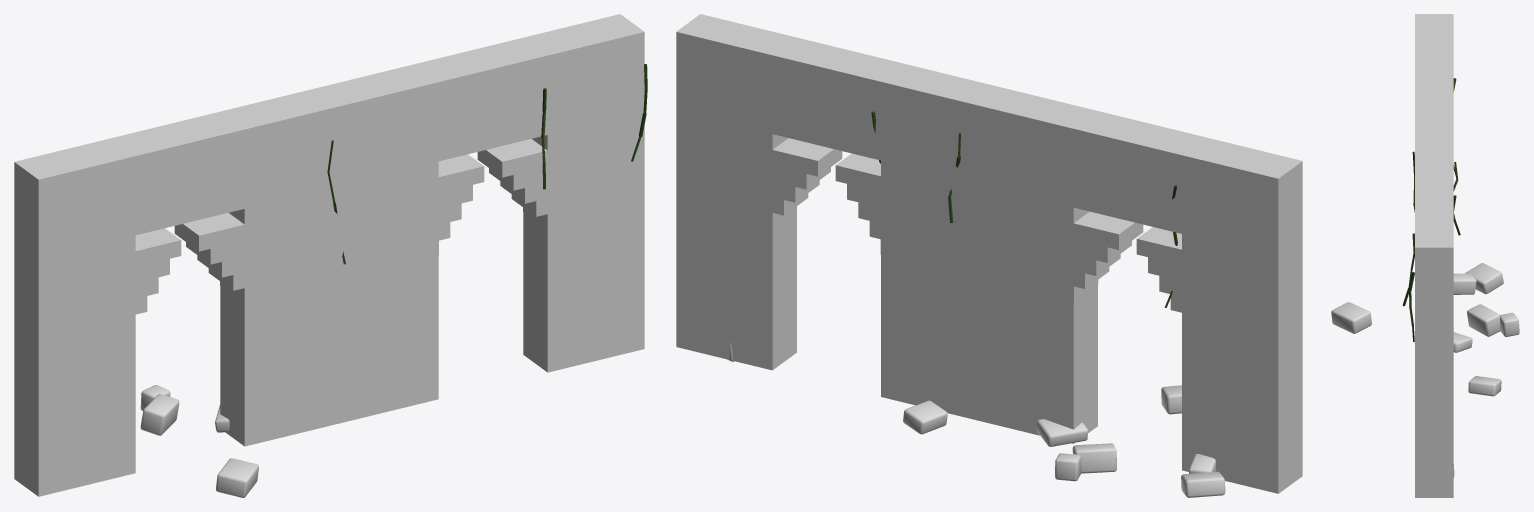
The model's file is ruin_gate.glb.
3 views of the same model, side by side, from view 1: azimuth 30°, elevation 25°; view 2: azimuth 150°, elevation 25°; view 3: azimuth 270°, elevation 25° (orthographic). The views are drawn at different scales.
Visible parts, largest first — view 1: ruin_gate_T_mossy_stone, ruin_gate_M_Vine; view 2: ruin_gate_T_mossy_stone; view 3: ruin_gate_T_mossy_stone, ruin_gate_M_Vine.
Part boxes in pixels (bbox=[...]): ruin_gate_T_mossy_stone: bbox=[14, 14, 644, 497]; ruin_gate_M_Vine: bbox=[327, 64, 647, 264]; ruin_gate_T_mossy_stone: bbox=[676, 14, 1302, 497]; ruin_gate_T_mossy_stone: bbox=[1331, 14, 1519, 497]; ruin_gate_M_Vine: bbox=[1402, 78, 1460, 341].
Size of the model in its own units: 20.05 by 10.11 by 6.82.
